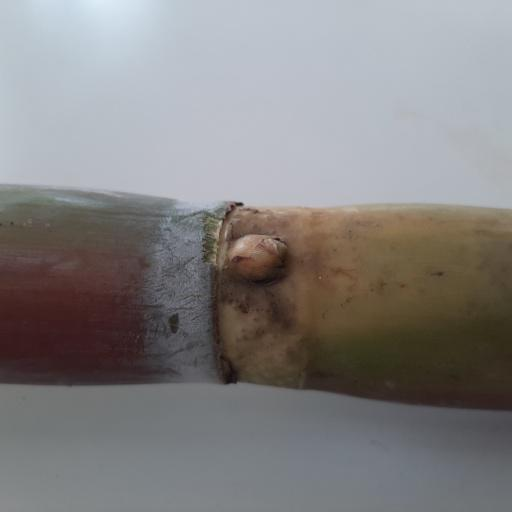Bud: (225, 234, 290, 284)
